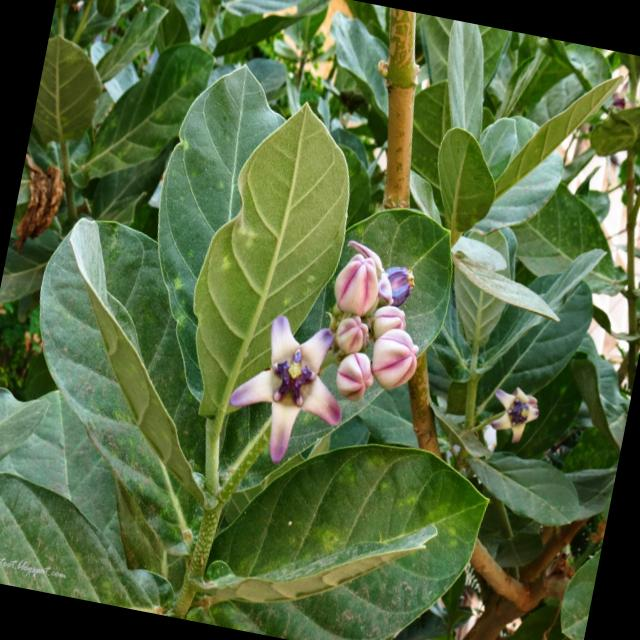Poisonous-Calatropis: (0, 395, 498, 640), (383, 141, 640, 530), (154, 182, 446, 492)
